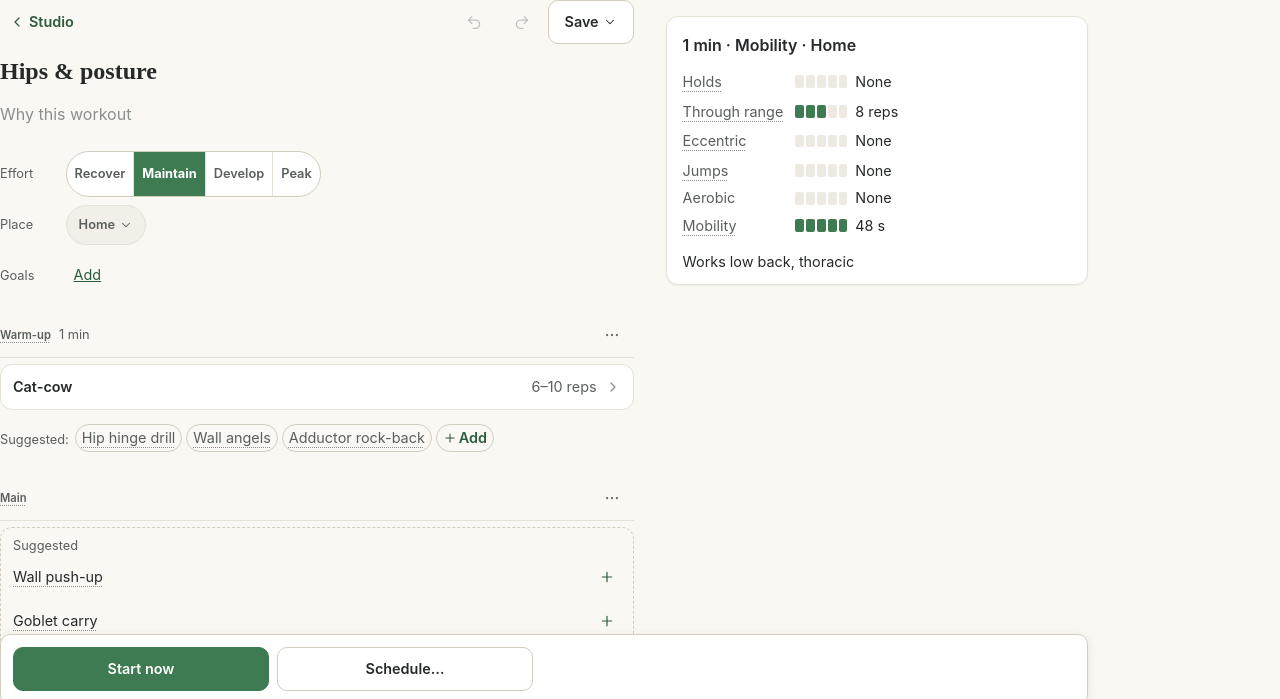
Scenario: suggestions on one line › once a part has a move, its ＋ opens the part's Add a move, the suggestions first
The width and height of the screenshot is (1280, 699).
Click the button "Add" in the row of "Suggested:" at (465, 438), box left=436, top=416, right=494, bottom=460
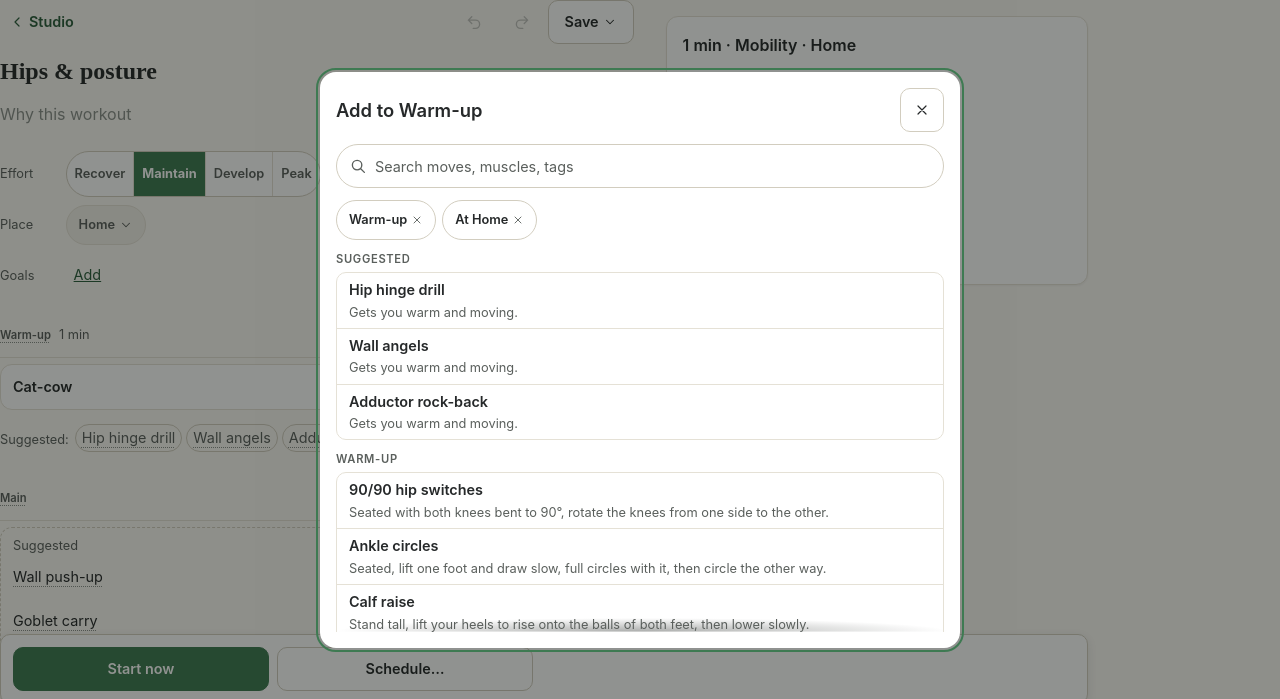
Expected: the heading "Suggested" is shown, left=336, top=252, right=410, bottom=266
